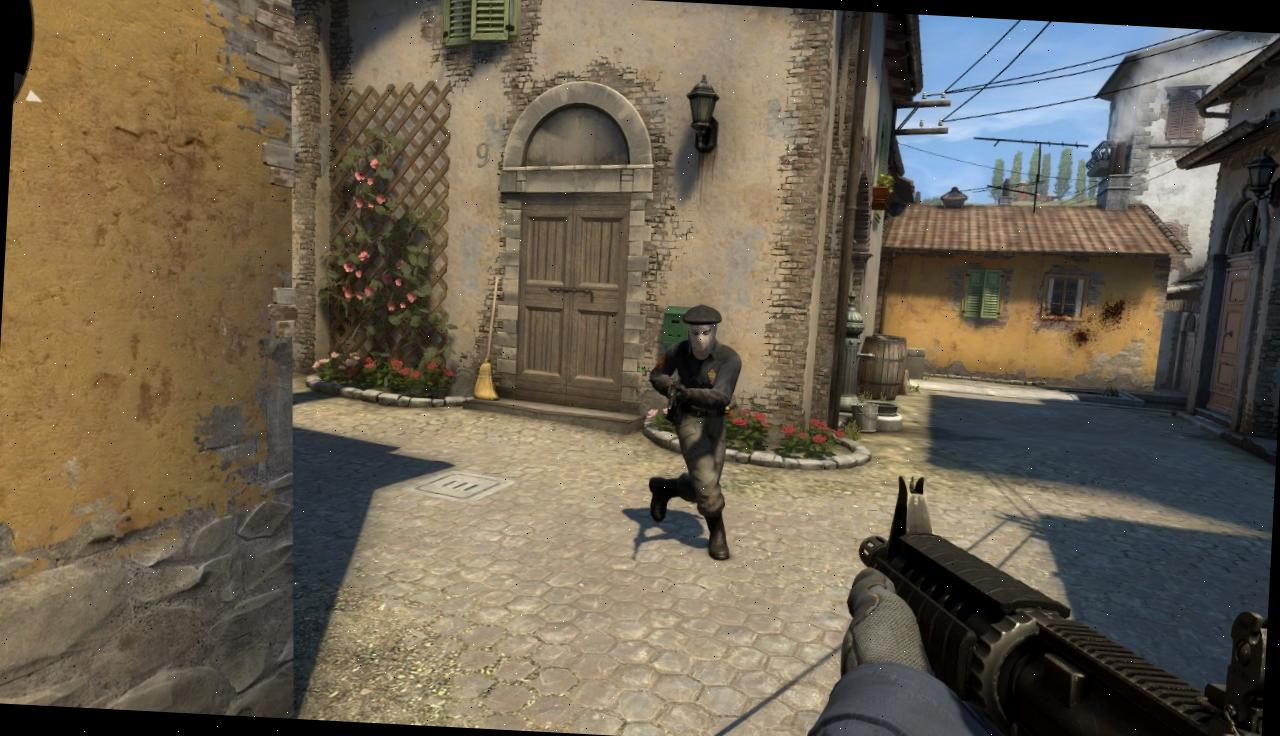rifle: (834, 477, 1272, 736)
tt: (640, 300, 746, 560)
tthead: (680, 303, 723, 356)
